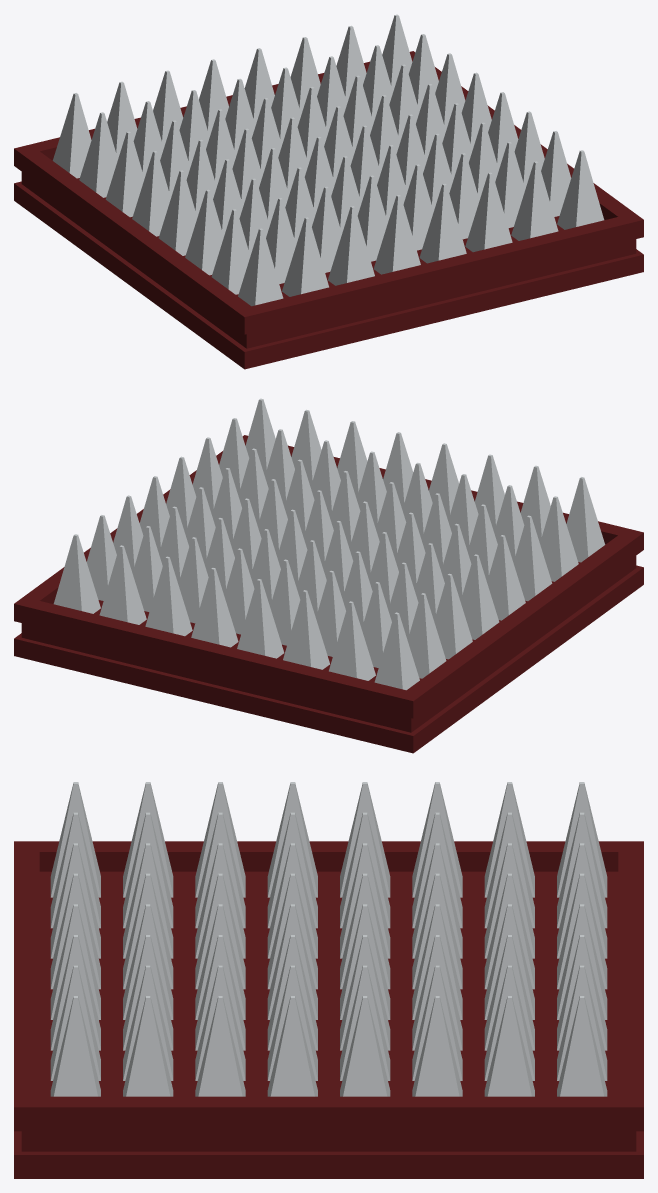
Rendered from Spikes.fbx.
3 renders of one model, top to bottom at view 1: azimuth 30°, elevation 25°; view 2: azimuth 150°, elevation 25°; view 3: azimuth 270°, elevation 25°, orthographic. The views are drawn at different scales.
Parts seen in each view (by area): view 1: Cube; view 2: Cube; view 3: Cube.
Part boxes in pixels (x1,y1,x2,y2): Cube: (14,14,643,369); Cube: (14,398,643,753); Cube: (14,782,643,1178).
Size of the model in its own units: 200 by 54.53 by 200.
